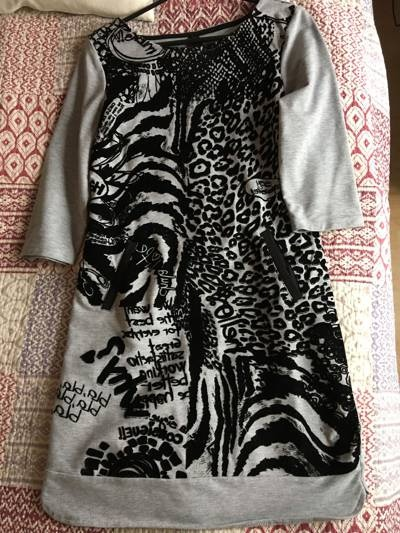Dress: (16, 10, 372, 523)
